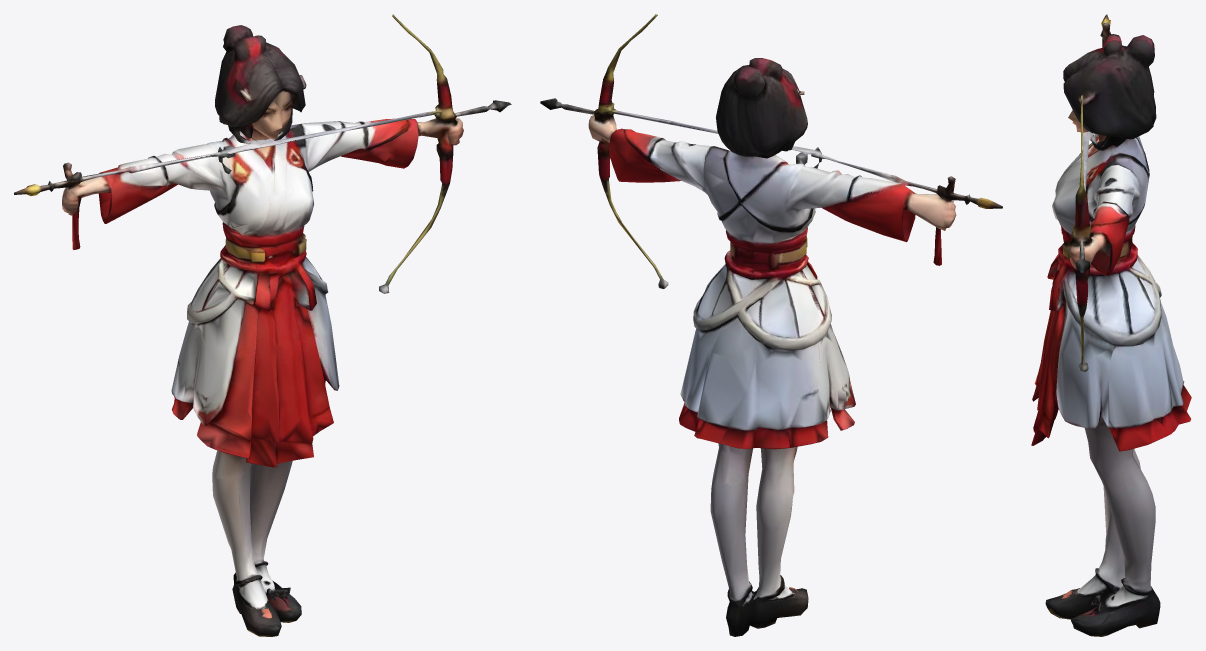
Rendered from y_mikoarcher.glb.
3 renders of one model, left to right at view 1: azimuth 30°, elevation 25°; view 2: azimuth 150°, elevation 25°; view 3: azimuth 270°, elevation 25°, orthographic. The views are drawn at different scales.
Parts seen in each view (by area): view 1: tripo_node_c3b238ca-ac78-437c-9ed9-b86b6a541bcc; view 2: tripo_node_c3b238ca-ac78-437c-9ed9-b86b6a541bcc; view 3: tripo_node_c3b238ca-ac78-437c-9ed9-b86b6a541bcc.
Part boxes in pixels (x1,y1,x2,y2): tripo_node_c3b238ca-ac78-437c-9ed9-b86b6a541bcc: [14, 14, 511, 636]; tripo_node_c3b238ca-ac78-437c-9ed9-b86b6a541bcc: [540, 14, 1002, 636]; tripo_node_c3b238ca-ac78-437c-9ed9-b86b6a541bcc: [1031, 14, 1191, 636].
Bounding box in the file's own units: 0.8693 × 0.9991 × 0.248.
1 material, 1 textured.
